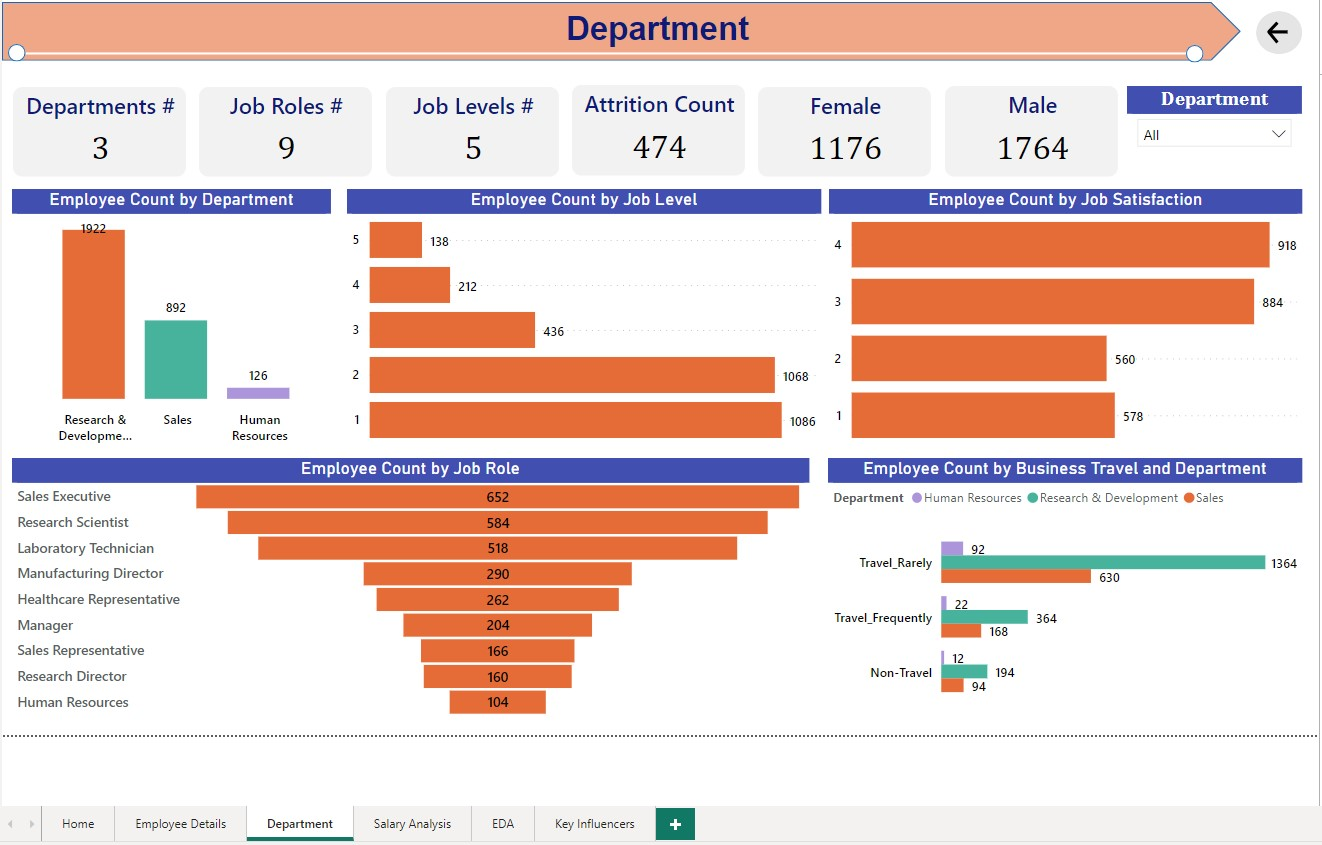

The page's visual inventory and layout, read from the dashboard file:
{"tool":"powerbi","page":{"name":"Department","canvas":[1280,720],"ordinal":2},"visuals":[{"type":"card","title":"Departments #","fields":{"Values":["Count(HR_Employee_Attrition_Data.Department)"]},"box":[9.7,89.4,170.1,89.4],"z":0},{"type":"card","title":"Job Roles #","fields":{"Values":["Count(HR_Employee_Attrition_Data.JobRole)"]},"box":[190.8,89.4,170.1,89.4],"z":1000},{"type":"card","title":"Job Levels #","fields":{"Values":["Count(HR_Employee_Attrition_Data.JobLevel)"]},"box":[371.9,89.4,170.1,89.4],"z":2000},{"type":"card","title":"Attrition Count","fields":{"Values":["CountNonNull(HR_Employee_Attrition_Data.Attrition)"]},"box":[553,87.5,170.1,90.4],"z":3000},{"type":"card","title":"Female","fields":{"Values":["CountNonNull(HR_Employee_Attrition_Data.Gender)"]},"box":[734.1,89.4,170.1,89.4],"z":4000},{"type":"card","title":"Male","fields":{"Values":["CountNonNull(HR_Employee_Attrition_Data.Gender)"]},"box":[915.2,88.4,170.1,90.4],"z":5000},{"type":"columnChart","title":"Employee Count by Department ","fields":{"Category":["HR_Employee_Attrition_Data.Department"],"Y":["CountNonNull(HR_Employee_Attrition_Data.Department)"]},"box":[9.7,189.5,310,254.6],"z":6000},{"type":"clusteredBarChart","title":"Employee Count by Job Level","fields":{"Category":["HR_Employee_Attrition_Data.JobLevel"],"Y":["CountNonNull(HR_Employee_Attrition_Data.JobLevel)"]},"box":[335.3,189.5,460.7,254.6],"z":7000},{"type":"clusteredBarChart","title":"Employee Count by Job Satisfaction","fields":{"Category":["HR_Employee_Attrition_Data.JobSatisfaction"],"Y":["CountNonNull(HR_Employee_Attrition_Data.JobSatisfaction)"]},"box":[803.8,189.5,459.7,254.6],"z":8000},{"type":"funnel","title":"Employee Count by Job Role ","fields":{"Category":["HR_Employee_Attrition_Data.JobRole"],"Y":["CountNonNull(HR_Employee_Attrition_Data.JobRole)"]},"box":[9.7,451,774.6,255.6],"z":9000},{"type":"clusteredBarChart","title":"Employee Count by Business Travel and Department","fields":{"Category":["HR_Employee_Attrition_Data.BusinessTravel"],"Y":["CountNonNull(HR_Employee_Attrition_Data.BusinessTravel)"],"Series":["HR_Employee_Attrition_Data.Department"]},"box":[802.8,451,460.7,255.6],"z":10000},{"type":"slicer","title":"Department","fields":{"Values":["HR_Employee_Attrition_Data.Department"]},"box":[1093.4,89.4,170.1,90.4],"z":11000},{"type":"shape","box":[0,7.8,1204.2,57.3],"z":12000},{"type":"shape","box":[23.3,41.8,1129.4,32.1],"z":13000},{"type":"textbox","box":[335.3,10.7,603.6,52.5],"z":14000},{"type":"shape","box":[5.8,48.6,17.5,16.5],"z":15000},{"type":"shape","box":[1150.7,49.6,17.5,16.5],"z":16000},{"type":"actionButton","box":[1218.8,16.5,44.7,41.8],"z":17000}]}

Visuals, with their boxes on the page's 1280x720 design canvas (x1, y1, x2, y2). These are canvas units, not pixel positions in the 1322x845 screenshot, which may show the page scaled, cropped or inside an application window:
"Departments #" card: 10 89 180 179
"Job Roles #" card: 191 89 361 179
"Job Levels #" card: 372 89 542 179
"Attrition Count" card: 553 88 723 178
"Female" card: 734 89 904 179
"Male" card: 915 88 1085 179
"Employee Count by Department " columnChart: 10 190 320 444
"Employee Count by Job Level" clusteredBarChart: 335 190 796 444
"Employee Count by Job Satisfaction" clusteredBarChart: 804 190 1264 444
"Employee Count by Job Role " funnel: 10 451 784 707
"Employee Count by Business Travel and Department" clusteredBarChart: 803 451 1264 707
"Department" slicer: 1093 89 1264 180
shape: 0 8 1204 65
shape: 23 42 1153 74
textbox: 335 11 939 63
shape: 6 49 23 65
shape: 1151 50 1168 66
actionButton: 1219 16 1264 58
